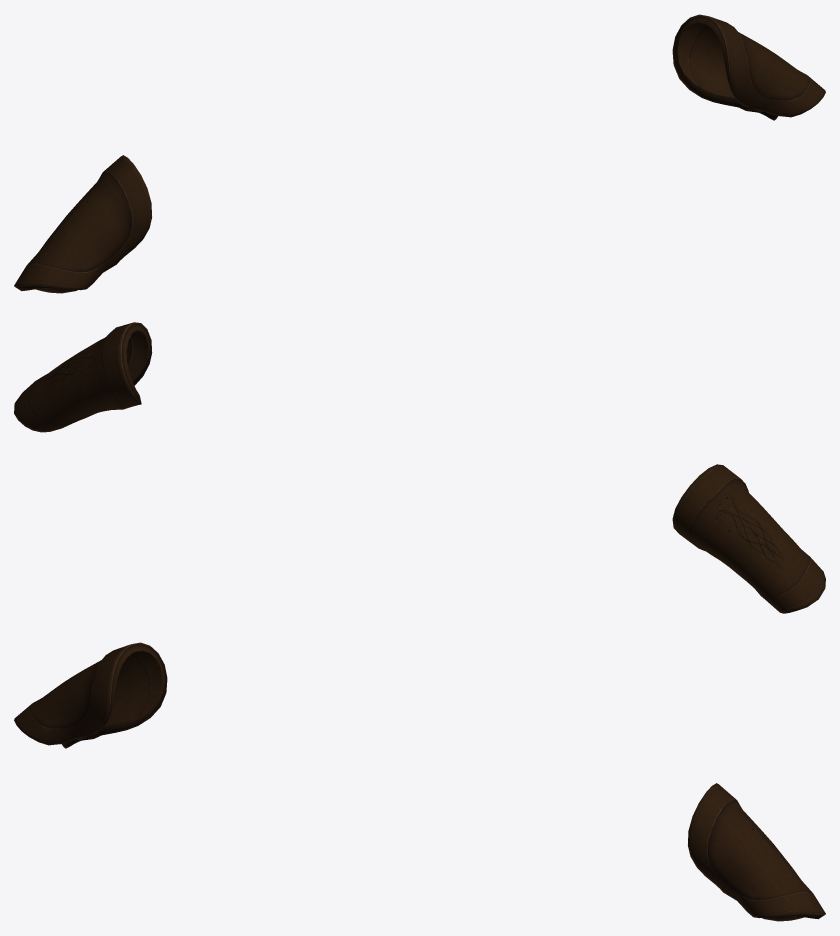
Rendered from rivendell_vambraces_leather1.fbx.
The picture shows the model from 3 angles, top to bottom: view 1: azimuth 30°, elevation 25°; view 2: azimuth 150°, elevation 25°; view 3: azimuth 330°, elevation 25°; orthographic projection.
Visible parts, largest first — view 1: rivendell_vambraces_leather1; view 2: rivendell_vambraces_leather1; view 3: rivendell_vambraces_leather1.
Boxes of the visible parts, bbox=[...] form: rivendell_vambraces_leather1: bbox=[14, 14, 825, 293]; rivendell_vambraces_leather1: bbox=[14, 322, 825, 613]; rivendell_vambraces_leather1: bbox=[14, 642, 825, 921].
Bounding box in the file's own units: 1.44 × 0.1309 × 0.2062.
1 material, 1 textured.
